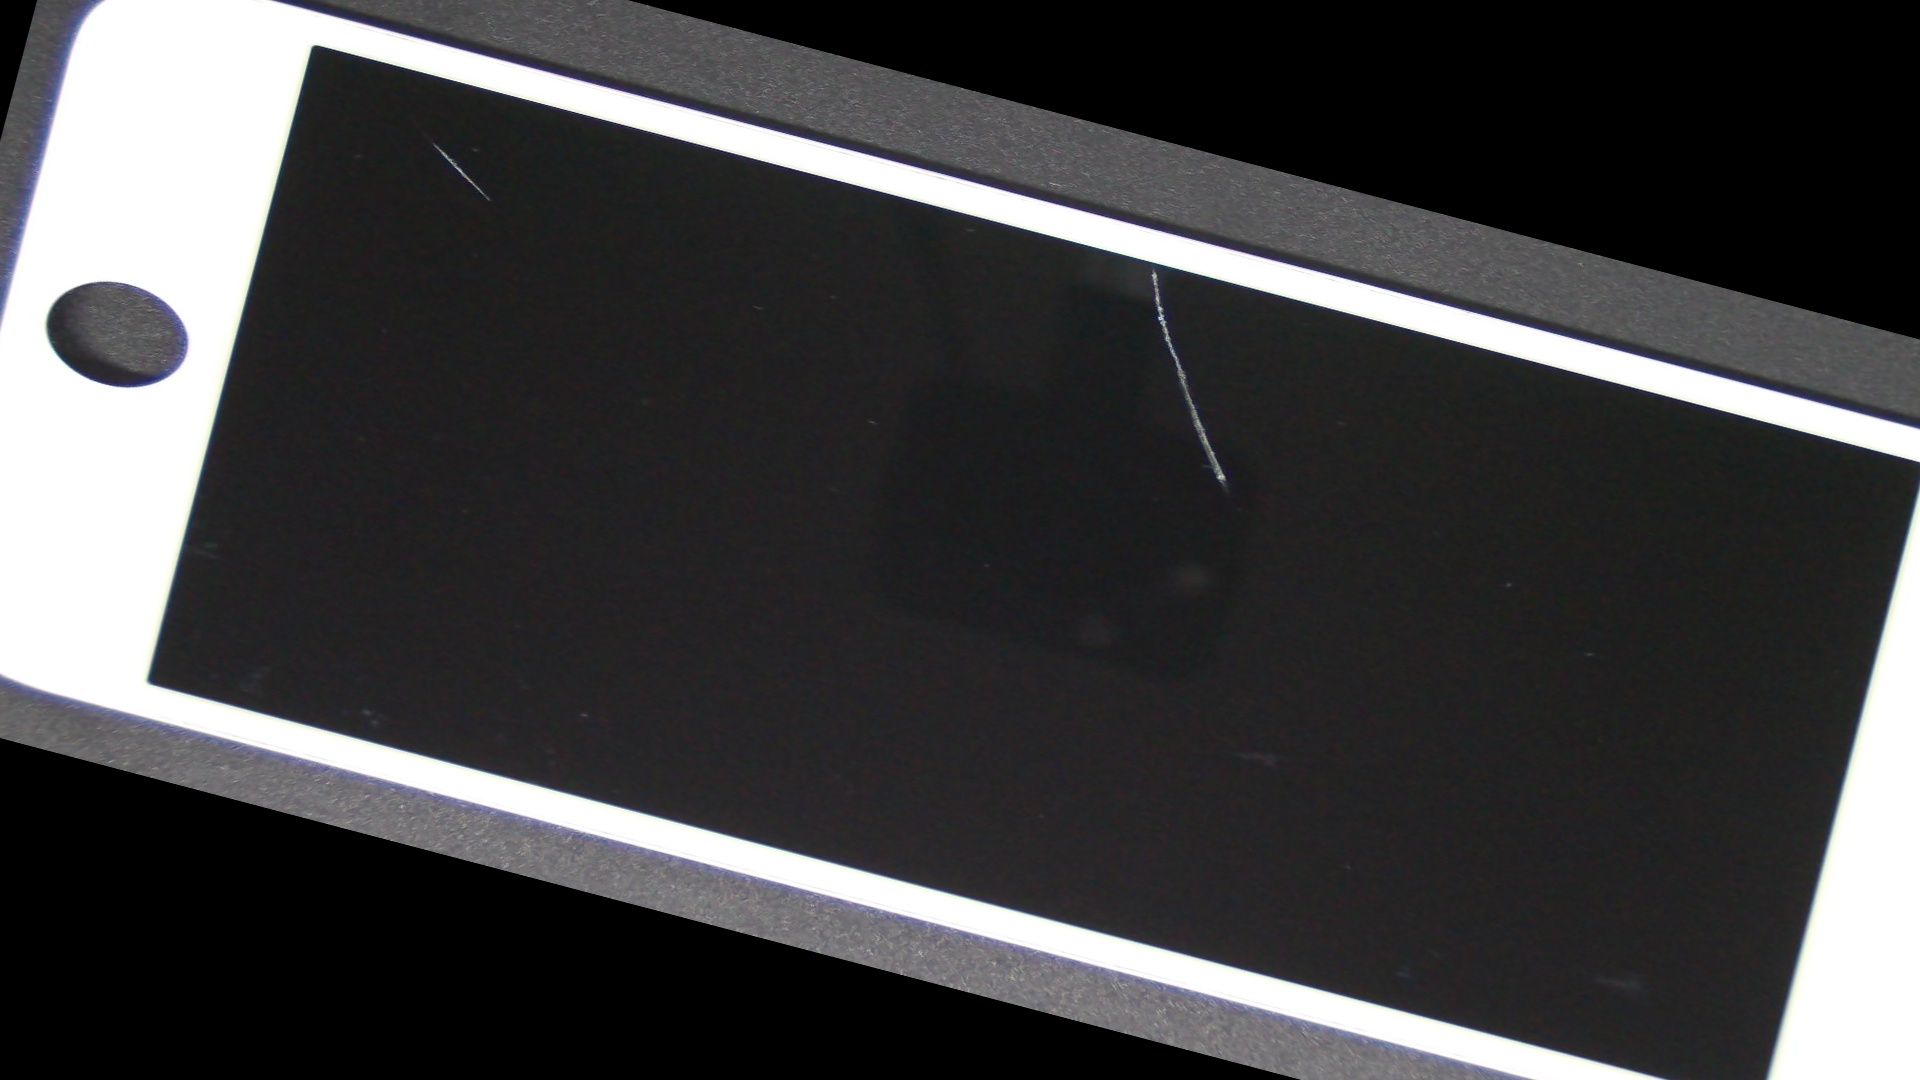oil: (584, 61, 1725, 473), (207, 0, 657, 285)
